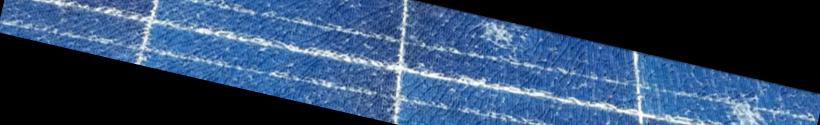Crack: (456, 11, 548, 68), (699, 77, 788, 124)
